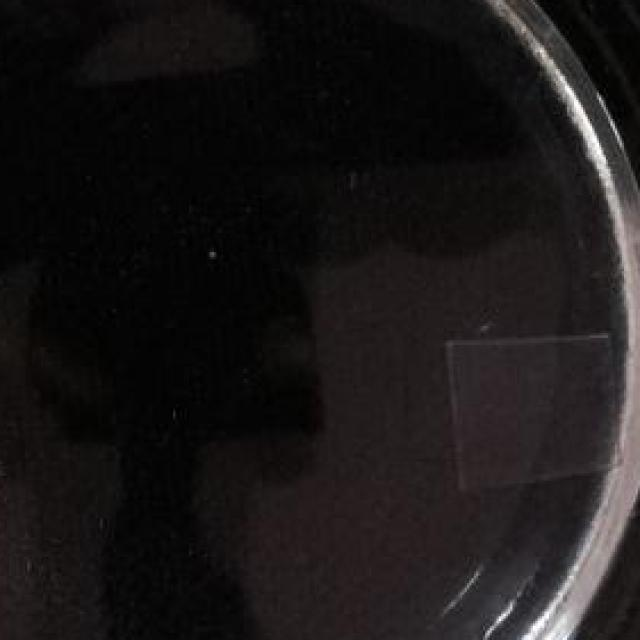Microplastic: (442, 319, 640, 497)
